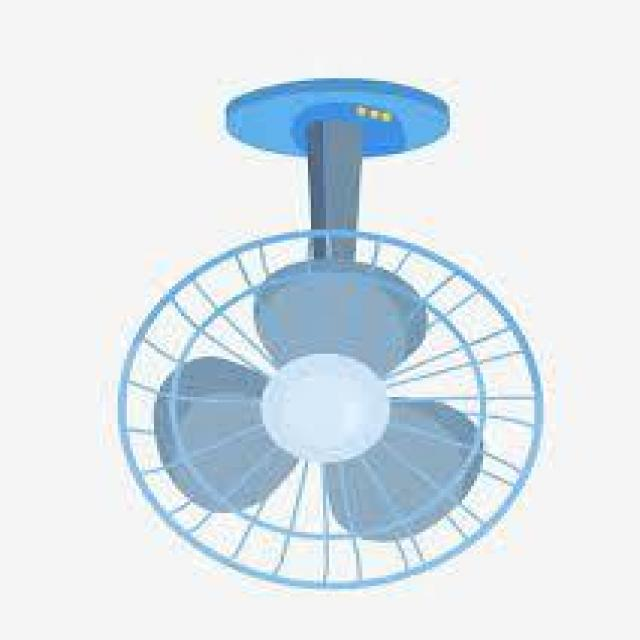fan: (105, 76, 558, 592)
